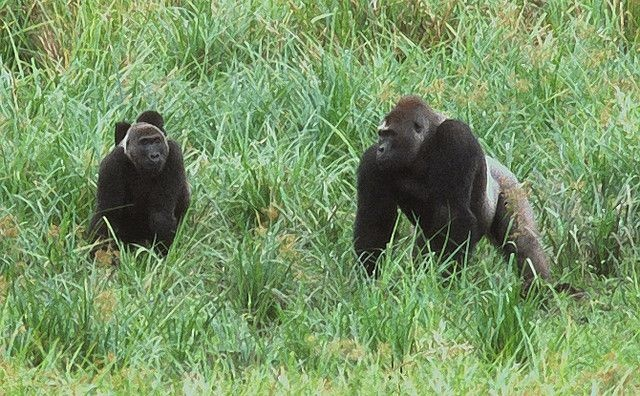gorilla: (347, 89, 585, 304), (92, 99, 192, 263)
